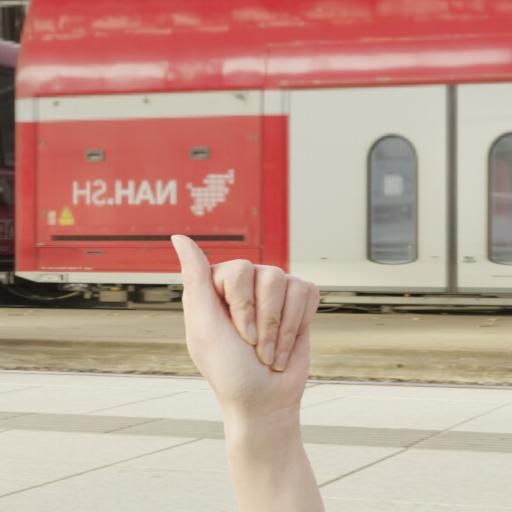A: (162, 219, 334, 512)
